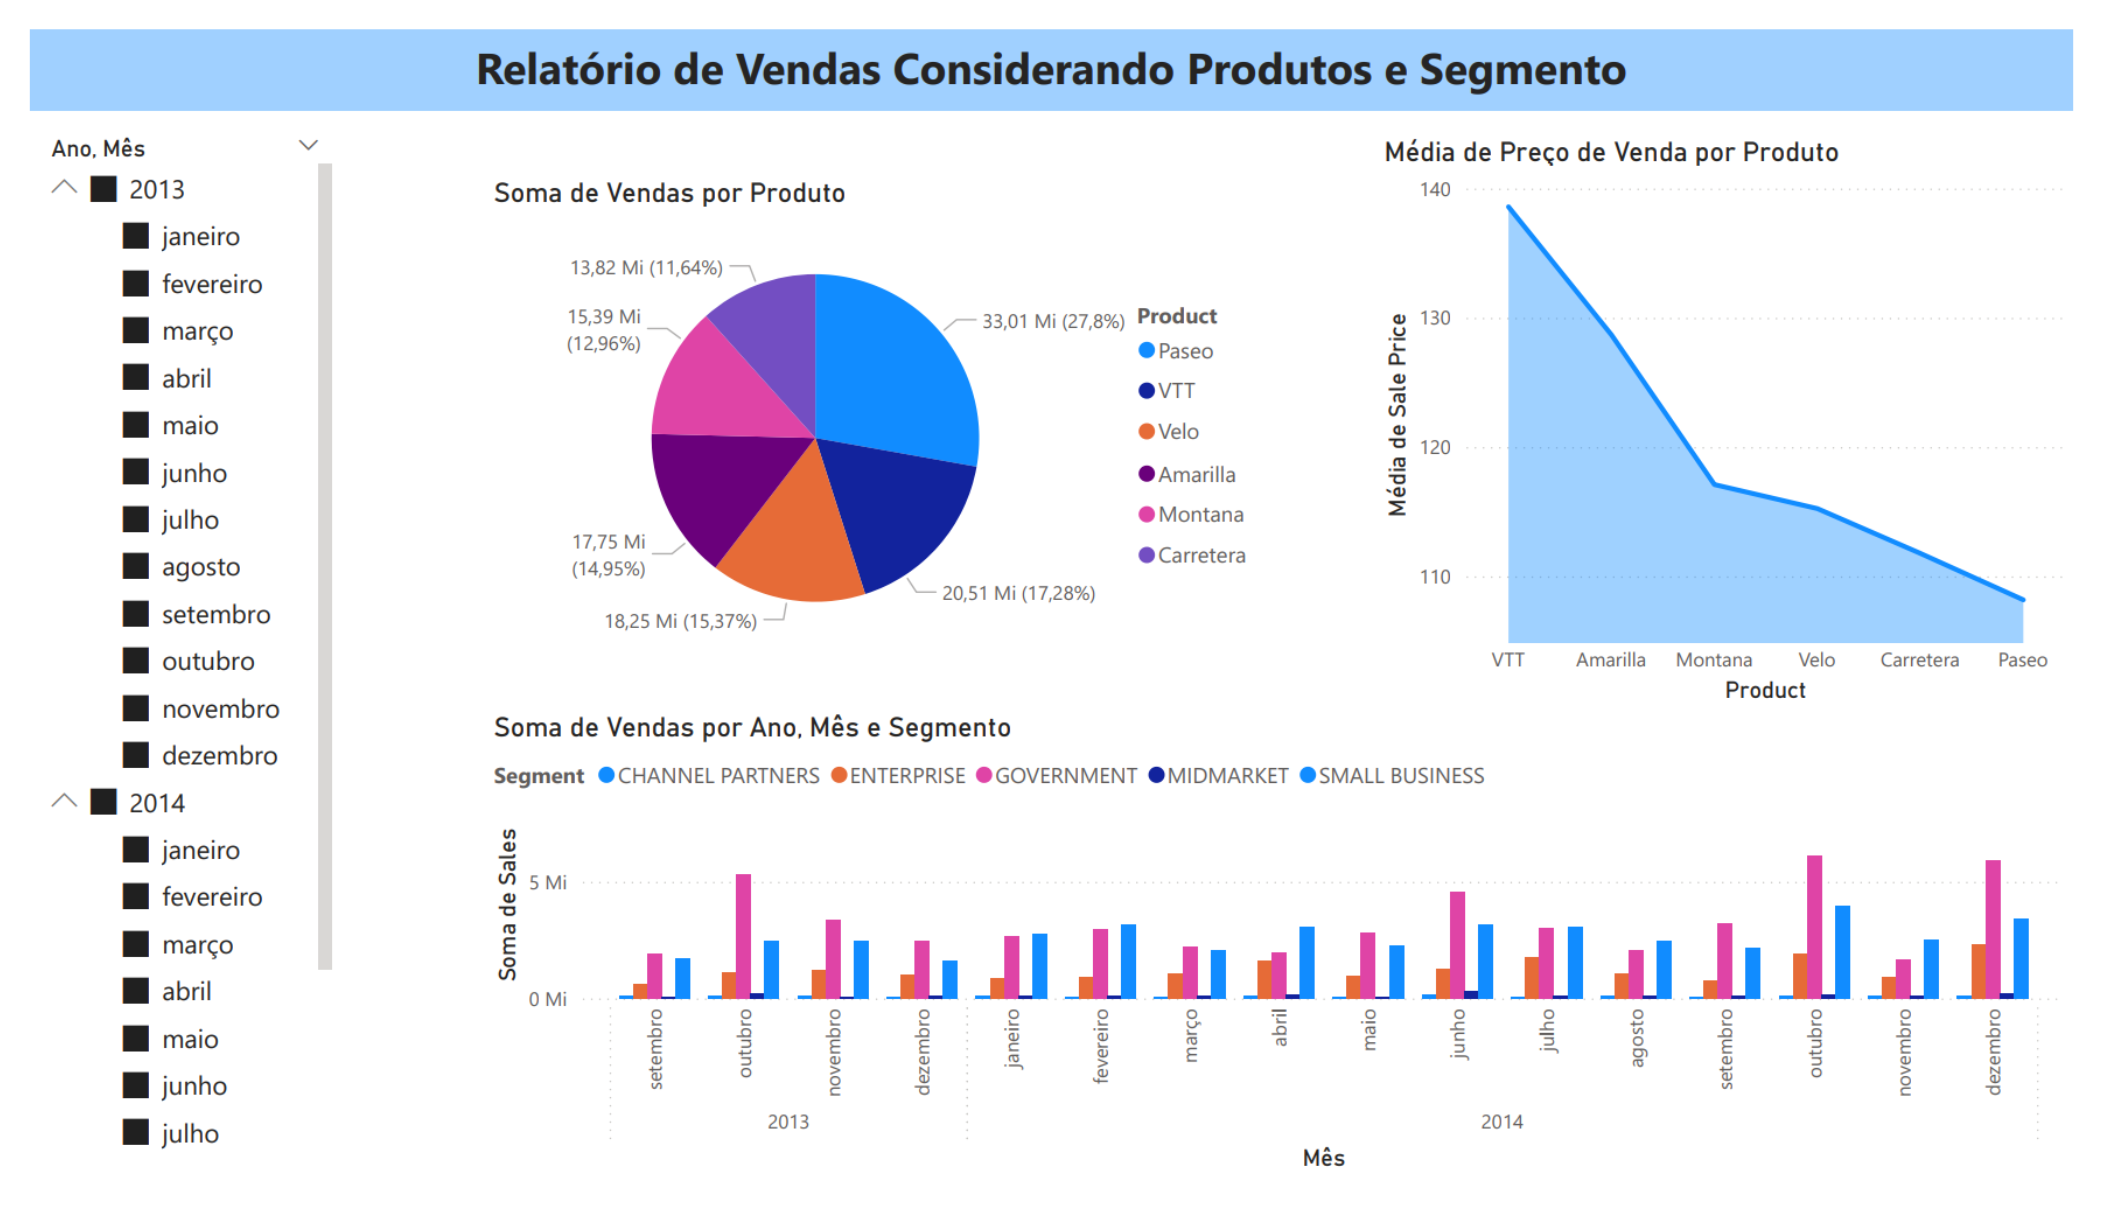

Layout of this report page (visuals, bound fields, positions):
{"tool":"powerbi","page":{"name":"Página 1","canvas":[1280,720],"ordinal":0},"visuals":[{"type":"slicer","fields":{"Values":["financials.Date.Variation.Hierarquia de datas.Ano","financials.Date.Variation.Hierarquia de datas.Mês"]},"box":[9.9,66.3,189.9,639.4],"z":0},{"type":"pieChart","title":"Soma de  Vendas por Produto","fields":{"Y":["Sum(financials. Sales)"],"Category":["financials.Product"]},"box":[290.1,95.8,481.8,303.6],"z":1000},{"type":"areaChart","title":"Média de Preço de Venda por Produto","fields":{"Category":["financials.Product"],"Y":["Avg(financials.Sale Price)"]},"box":[837.3,70.7,428.1,354.6],"z":2000},{"type":"clusteredColumnChart","title":"Soma de  Vendas por Ano, Mês e Segmento","fields":{"Y":["Sum(financials. Sales)"],"Series":["financials.Segment"],"Category":["financials.Date.Variation.Hierarquia de datas.Ano","financials.Date.Variation.Hierarquia de datas.Mês"]},"box":[290.1,425.4,975.2,287.5],"z":3000},{"type":"textbox","box":[9.9,6.3,1255.5,50.1],"z":4000}]}

Visuals, with their boxes on the page's 1280x720 design canvas (x1, y1, x2, y2). These are canvas units, not pixel positions in the 2101x1219 screenshot, which may show the page scaled, cropped or inside an application window:
slicer - financials.Date.Variation.Hierarquia de datas.Ano x financials.Date.Variation.Hierarquia de datas.Mês: box(10, 66, 200, 706)
"Soma de  Vendas por Produto" pieChart: box(290, 96, 772, 399)
"Média de Preço de Venda por Produto" areaChart: box(837, 71, 1265, 425)
"Soma de  Vendas por Ano, Mês e Segmento" clusteredColumnChart: box(290, 425, 1265, 713)
textbox: box(10, 6, 1265, 56)
